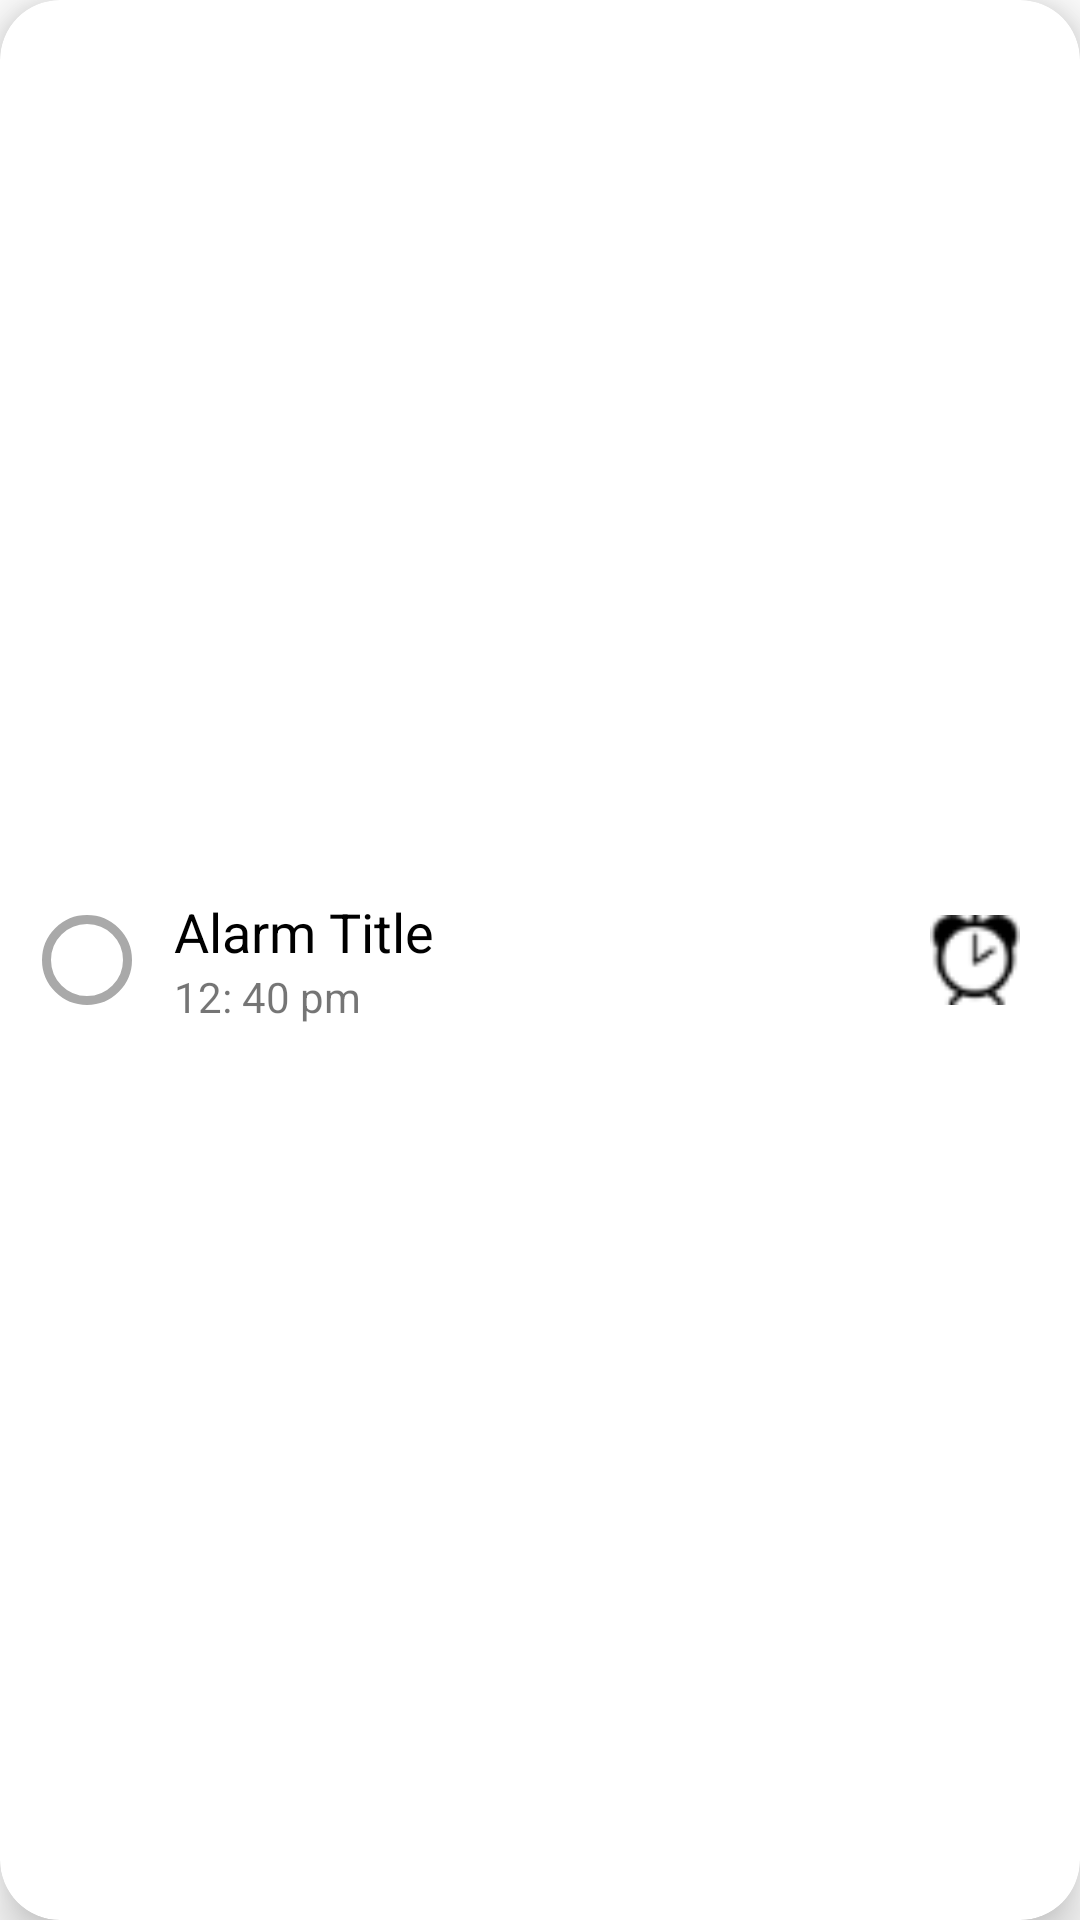

Icons on this 1080 x 1920 Android screen, each with its box as (left=x1, top=y1, right=x2, bottom=y2):
clock: (left=930, top=915, right=1020, bottom=1005)
